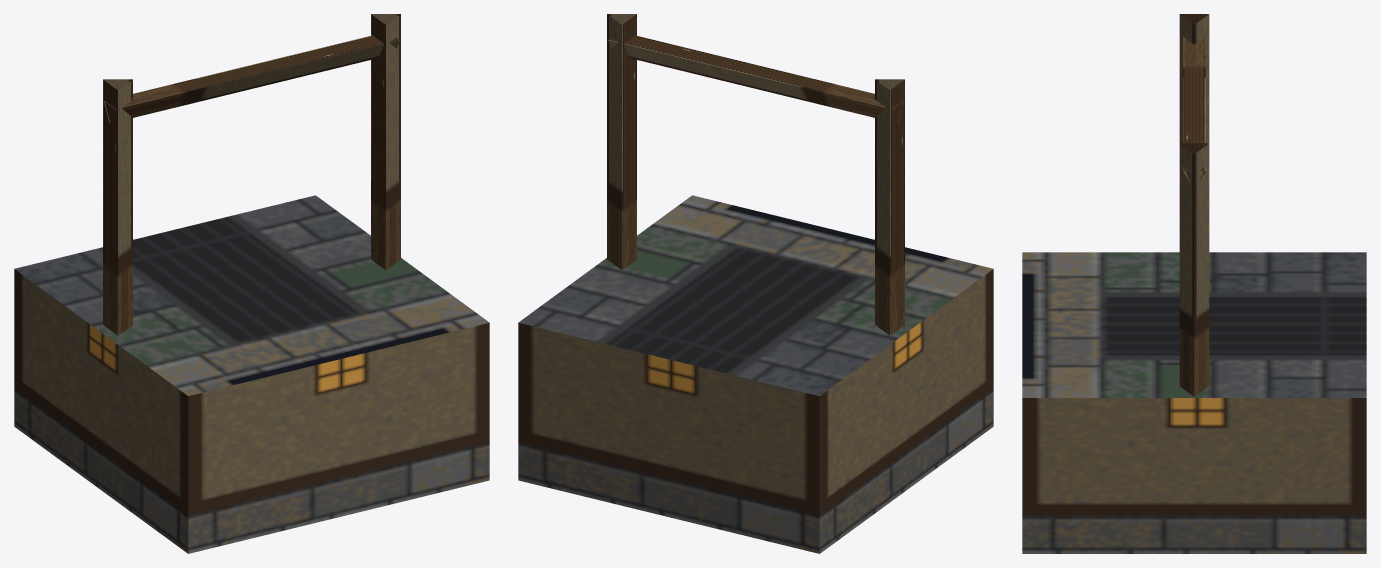
File: well.obj
The picture shows the model from 3 angles, left to right: view 1: azimuth 30°, elevation 25°; view 2: azimuth 150°, elevation 25°; view 3: azimuth 270°, elevation 25°; orthographic projection.
Parts seen in each view (by area): view 1: well; view 2: well; view 3: well.
Part boxes in pixels (x1,y1,x2,y2): well: (14, 14, 489, 553); well: (518, 14, 993, 553); well: (1022, 14, 1366, 553).
Size of the model in its own units: 1.8 by 2.3 by 1.8.
1 material, 1 textured.
